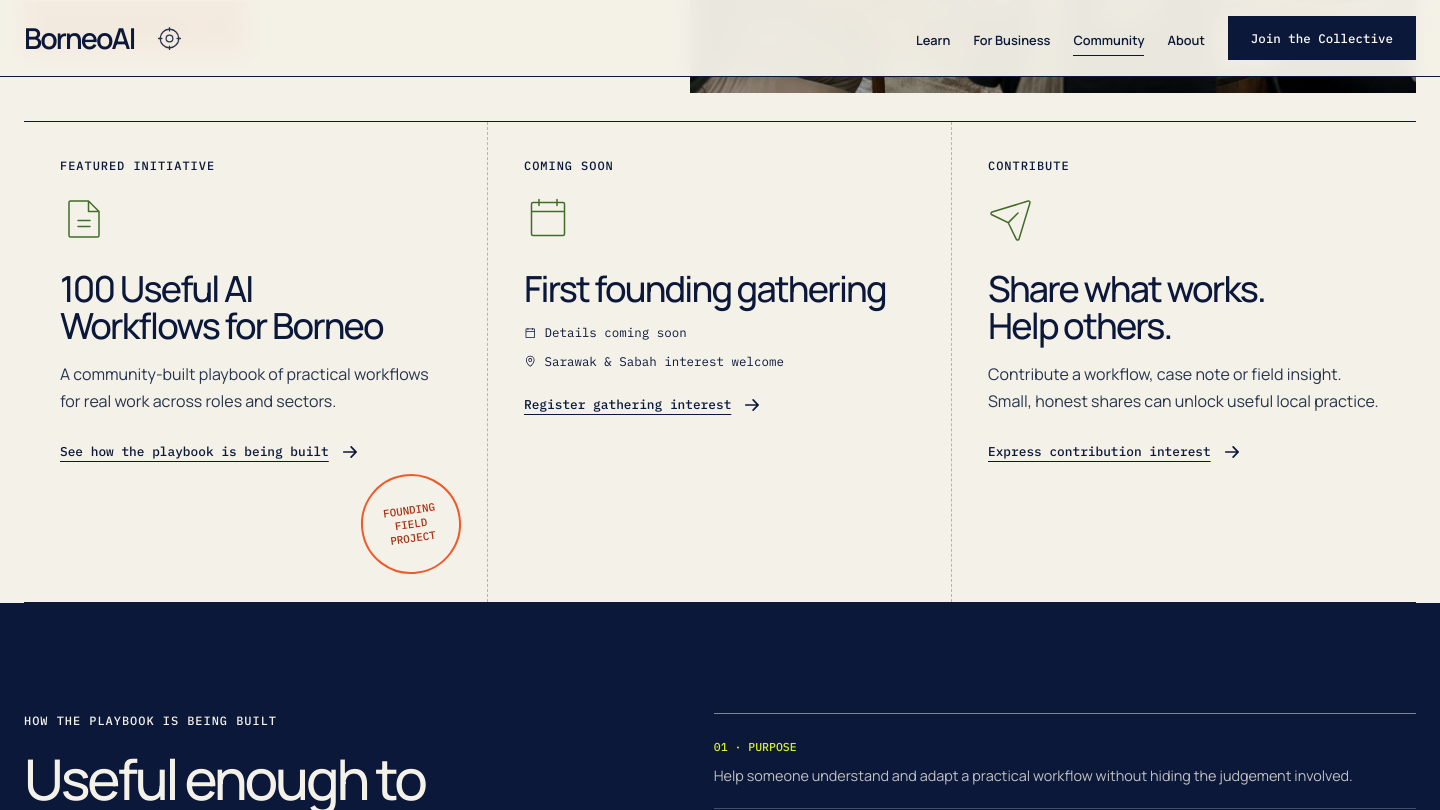
it: contextual interest dialog › opens the intended gathering flow from its contextual CTA
(page scrolled)
Click the button "Register gathering interest" at (643, 405), box top-left (524, 383), bottom-right (761, 427)
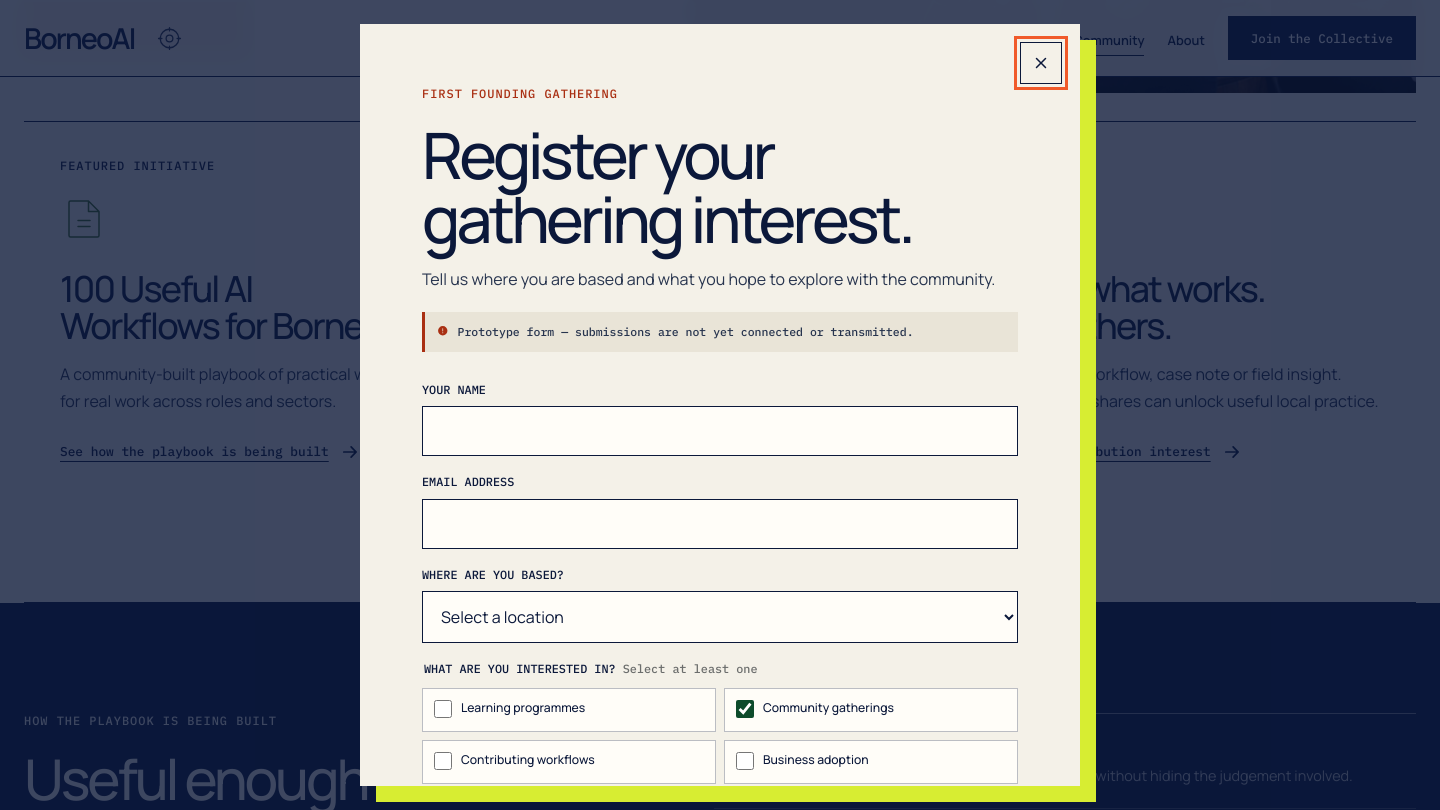
Expected: the dialog is shown, top-left (360, 24), bottom-right (1080, 786)
Expected: the heading "Register your gathering interest." is shown, top-left (422, 123), bottom-right (982, 251)
Expected: the checkbox labelled "Community gatherings" is checked, top-left (736, 700), bottom-right (754, 718)
